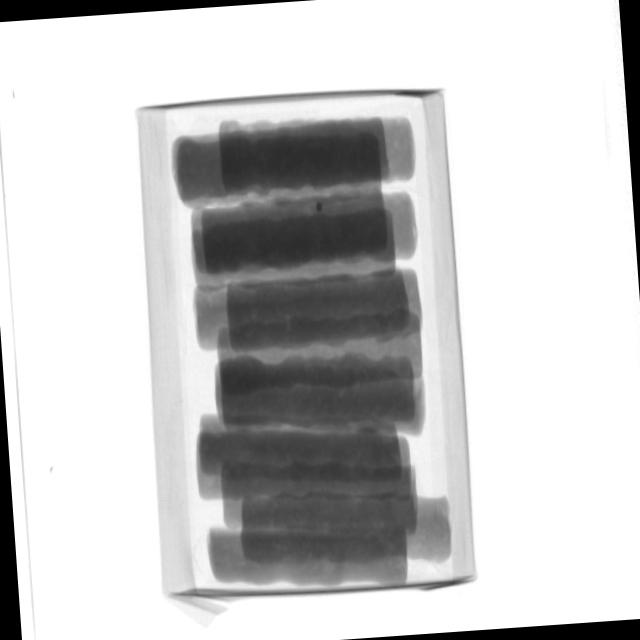ym: (316, 203, 324, 213)
